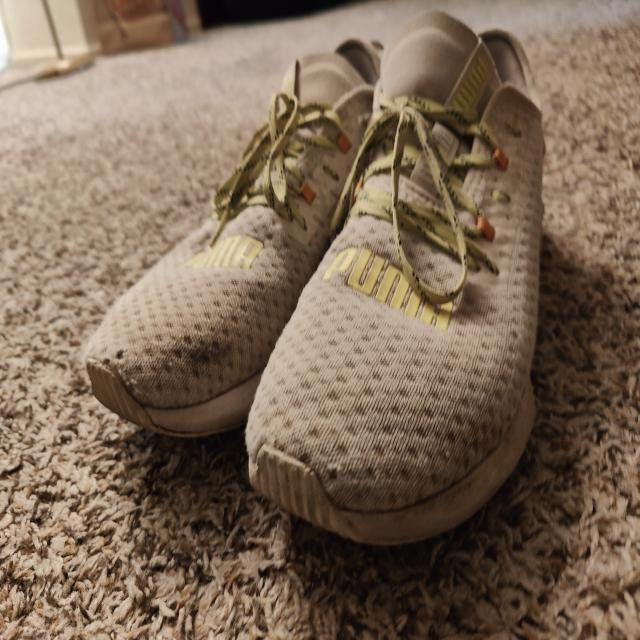white shoes: (94, 54, 550, 544)
